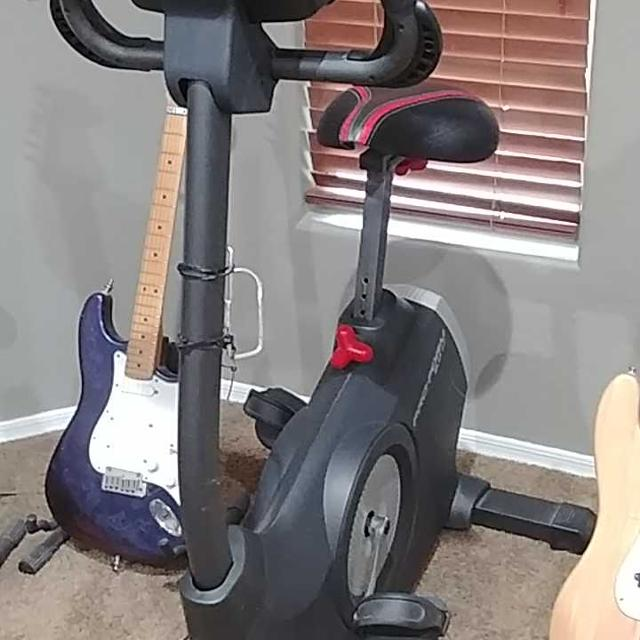gym_bike: (52, 1, 595, 618)
